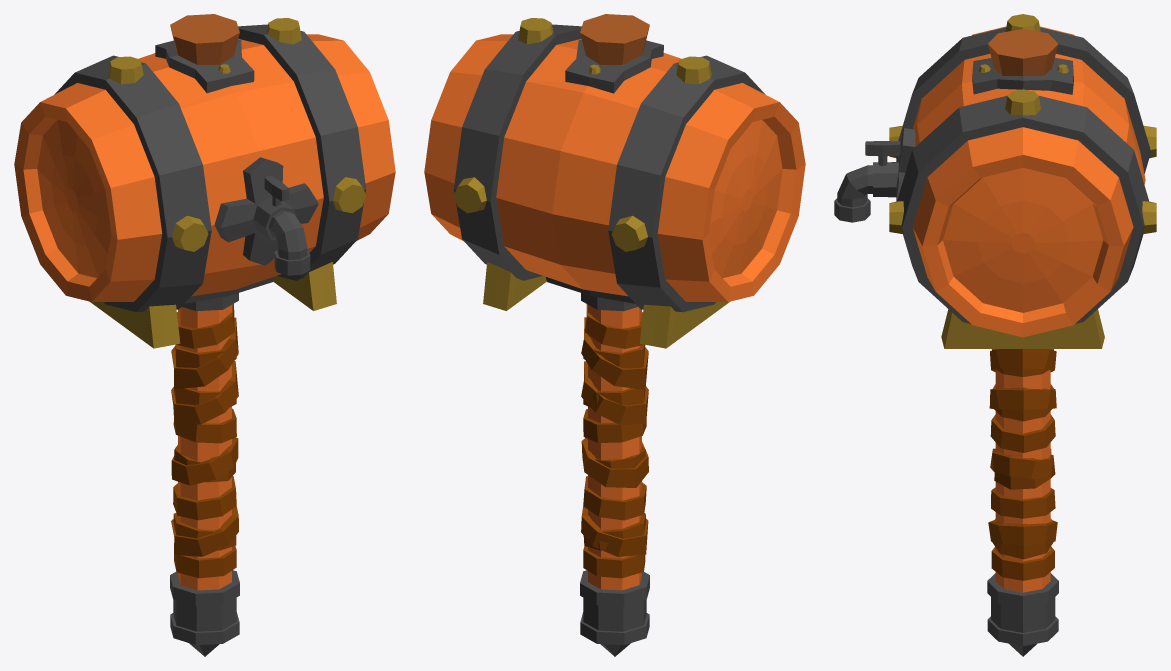
The model's file is Odrerir.fbx.
3 renders of one model, left to right at view 1: azimuth 30°, elevation 25°; view 2: azimuth 150°, elevation 25°; view 3: azimuth 270°, elevation 25°, orthographic. The views are drawn at different scales.
Visible parts, largest first — view 1: Cylinder, handle 2..001, Cylinder.001; view 2: Cylinder, handle 2..001, Cylinder.001; view 3: Cylinder, handle 2..001, Cylinder.001.
Boxes of the visible parts, x1,y1,x2,y2 form: Cylinder: (14,18,395,348); handle 2..001: (170,293,239,656); Cylinder.001: (170,14,239,64); Cylinder: (424,18,805,348); handle 2..001: (580,293,649,656); Cylinder.001: (580,14,649,64); Cylinder: (834,14,1156,348); handle 2..001: (987,349,1058,656); Cylinder.001: (988,29,1058,76).
Size of the model in its own units: 25.22 by 54.42 by 25.95.
